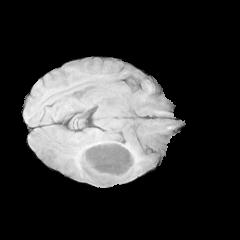glioma: (78, 141, 135, 185)
